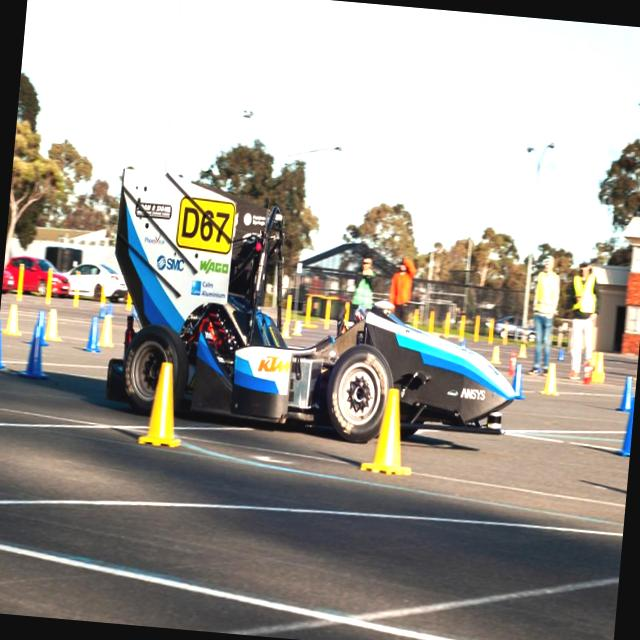blue_cone: (18, 325, 52, 381), (83, 316, 103, 353), (510, 364, 528, 399), (30, 311, 48, 343), (0, 319, 9, 368)
yellow_cone: (359, 386, 418, 476), (138, 360, 186, 447), (540, 362, 560, 395), (98, 314, 115, 348), (44, 308, 62, 339), (4, 305, 23, 334), (489, 346, 501, 364), (280, 322, 292, 338), (291, 321, 302, 336), (518, 344, 528, 358)
